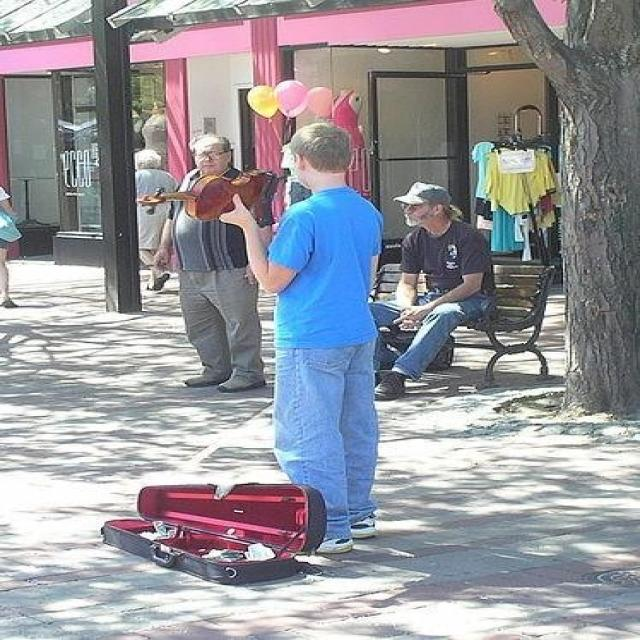violin: (135, 168, 277, 220)
